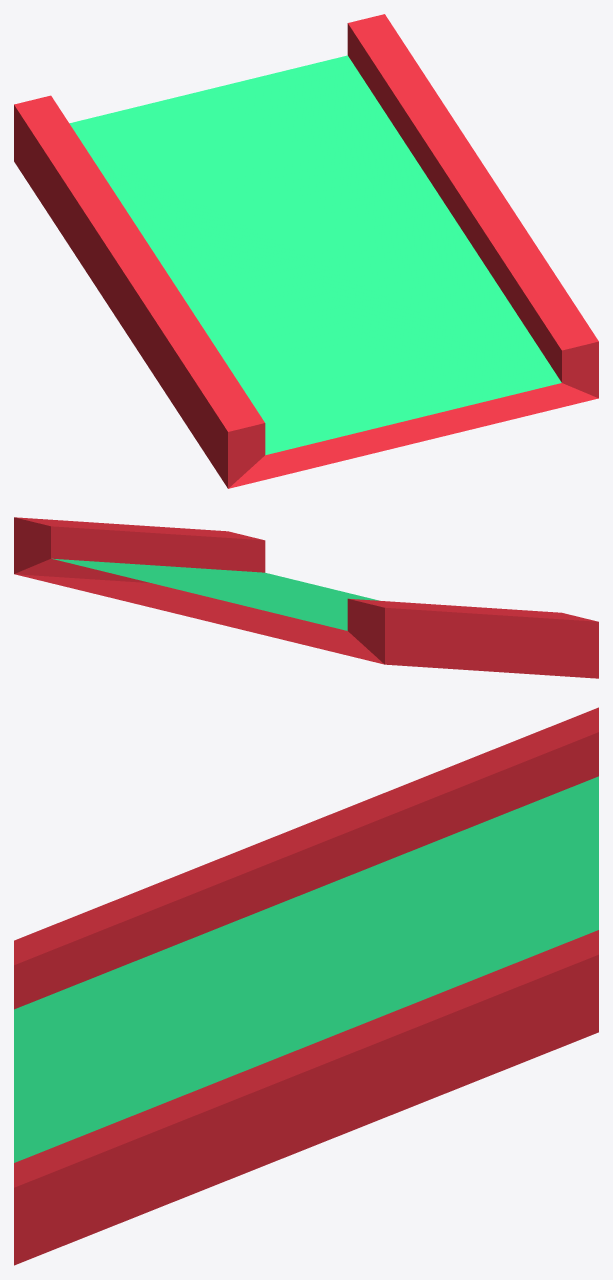
The model's file is rampC.fbx.
3 views of the same model, one above another, from view 1: azimuth 30°, elevation 25°; view 2: azimuth 150°, elevation 25°; view 3: azimuth 270°, elevation 25° (orthographic). The views are drawn at different scales.
Parts seen in each view (by area): view 1: rampC; view 2: rampC; view 3: rampC.
Boxes of the visible parts, x1=… form: rampC: x1=14, y1=14, x2=598, y2=488; rampC: x1=14, y1=517, x2=598, y2=678; rampC: x1=14, y1=707, x2=598, y2=1265.
Size of the model in its own units: 99.99 by 99.99 by 58.66.
